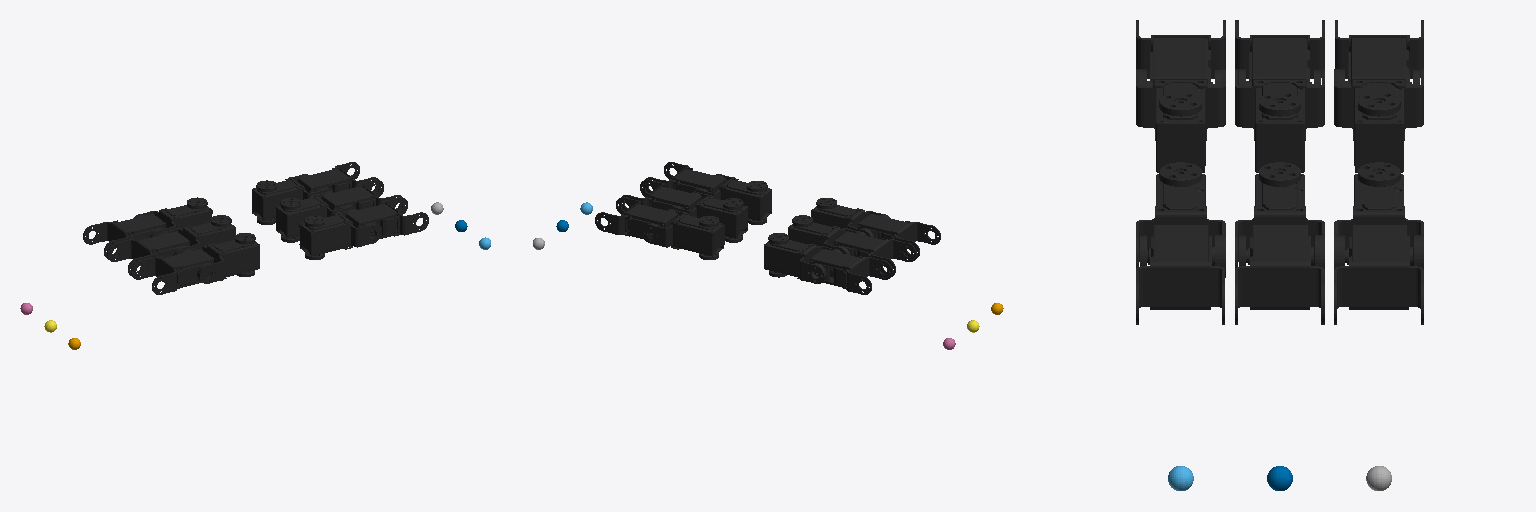
--- Render facts (derived) ---
3 views of the same robot in one strip: view 1: azimuth 30°, elevation 25°; view 2: azimuth 150°, elevation 25°; view 3: azimuth 270°, elevation 25° (orthographic).
Model Hexapod with 33 links and 32 joints (18 revolute, 14 fixed), rooted at world, posed every joint at zero.
Links seen in each view (by area): view 1: c1_rr, thigh_lr, c1_lr, thigh_rr, c1_rm, c1_rf, thigh_lf, thigh_lm, thigh_rm, c1_lm, thigh_rf, c1_lf; view 2: c1_rf, thigh_lf, c1_lf, thigh_rf, c1_rr, thigh_lm, thigh_lr, c1_rm, thigh_rm, thigh_rr, c1_lm, c1_lr; view 3: thigh_rm, thigh_rf, thigh_rr, c1_lr, c1_lf, c1_lm, thigh_lm, thigh_lr, thigh_lf, c1_rr, c1_rf, c1_rm.
Boxes of the visible links, x1,y1,x2,y2 form: c1_rr: (299, 209, 381, 259); thigh_lr: (131, 249, 214, 294); c1_lr: (181, 233, 259, 283); thigh_rr: (345, 197, 428, 240); c1_rm: (276, 191, 354, 242); c1_rf: (252, 174, 331, 224); thigh_lf: (83, 214, 165, 259); thigh_lm: (107, 231, 189, 275); thigh_rm: (321, 179, 402, 210); c1_lm: (157, 215, 235, 254); thigh_rf: (297, 162, 378, 192); c1_lf: (133, 197, 212, 236); c1_rf: (642, 209, 724, 259); thigh_lf: (809, 249, 892, 294); c1_lf: (764, 233, 841, 283); thigh_rf: (595, 197, 678, 241); c1_rr: (692, 174, 771, 224); thigh_lm: (834, 231, 916, 276); thigh_lr: (858, 214, 940, 259); c1_rm: (669, 191, 747, 242); thigh_rm: (622, 179, 702, 210); thigh_rr: (645, 162, 726, 192); c1_lm: (788, 215, 866, 254); c1_lr: (811, 198, 889, 236); thigh_rm: (1235, 225, 1324, 324); thigh_rf: (1334, 225, 1423, 324); thigh_rr: (1136, 225, 1224, 324); c1_lr: (1136, 69, 1225, 172); c1_lf: (1334, 69, 1423, 172); c1_lm: (1235, 69, 1324, 172); thigh_lm: (1235, 20, 1324, 86); thigh_lr: (1136, 20, 1225, 86); thigh_lf: (1335, 20, 1423, 86); c1_rr: (1136, 162, 1225, 277); c1_rf: (1334, 162, 1423, 268); c1_rm: (1235, 162, 1324, 268).
Bounding box of the posed robot: 0.467 × 0.1339 × 0.0753 m (x, y, z).
12 mesh visuals loaded from 4 distinct referenced files (2 binary STL); not drawn: 7 (reference not matched to a file when rendering).

robot.urdf — Hexapod:
<?xml version="1.0" ?>
<!-- =================================================================================== -->
<!-- |    This document was autogenerated by xacro from hexapod.xacro                  | -->
<!-- |    EDITING THIS FILE BY HAND IS NOT RECOMMENDED                                 | -->
<!-- =================================================================================== -->
<robot name="Hexapod">
  <!-- <xacro:arg name="arm_id_1" default="panda_1" /> -->
  <link name="world"/>
  <joint name="world_connect" type="fixed">
    <parent link="world"/>
    <child link="base_link"/>
    <origin rpy="0 0 0" xyz="0 0 0.1"/>
  </joint>
  <link name="base_link"/>
  <!-- <xacro:include filename="$(find franka_description)/robots/panda_gazebo.xacro"/> -->
  <!-- <xacro:include filename="$(find franka_description)/robots/hand.xacro"/> -->
  <!-- <xacro:include filename="$(find realsense_ros_gazebo)/xacro/inertia_calc.xacro"/> -->
  <!-- <xacro:include filename="$(find realsense_ros_gazebo)/xacro/tracker.xacro"/> -->
  <!-- <xacro:include filename="$(find hexapod)/robot/depthcam.xacro"/> -->
  <joint name="j_hexapod_attachment" type="fixed">
    <parent link="base_link"/>
    <child link="MP_BODY"/>
    <origin rpy="0 0 0.0" xyz="0 0 0"/>
    <insert_block name="origin"/>
  </joint>
  <link name="MP_BODY">
    <inertial>
      <origin rpy="0 0 0" xyz="0 0 0.02"/>
      <mass value="0.8"/>
      <!-- <mass value="10.0"/> -->
      <inertia ixx="0.0010867" ixy="0" ixz="0" iyy="0.0010867" iyz="0" izz="0.00196"/>
      <!-- <inertia ixx="31.081800"  ixy="2.5460189"  ixz="20.318174" iyy="63.787776" iyz="1.6417863" izz="53.316425" /> -->
    </inertial>
    <visual>
      <origin rpy="-1.57 0 0" xyz="-0.071 -0.075 0.041"/>
      <geometry>
        <!--box size="0.102 0.109 0.106" /-->
        <mesh filename="package://hexapod/meshes/test4.STL" scale="0.001 0.001 0.001"/>
      </geometry>
      <material name="Grey">
        <color rgba="0.20 0.20 0.20 1.0"/>
      </material>
    </visual>
    <collision>
      <origin rpy="0 0 0" xyz="0 0 0.02"/>
      <geometry>
        <!-- <box size="0.14 0.15 0.1"/> -->
        <cylinder length="0.04" radius="0.07"/>
      </geometry>
    </collision>
  </link>
  <gazebo reference="MP_BODY">
    <material>Gazebo/Grey</material>
  </gazebo>
  <link name="c1_rf">
    <inertial>
      <origin rpy="0 0 0" xyz="0 0 0"/>
      <mass value="0.024357719"/>
      <inertia ixx="0.0051411124" ixy="-0.00057530255" ixz="-0.000024729049" iyy="0.0081915737" iyz="-0.000019223094" izz="0.0011379812"/>
    </inertial>
    <visual>
      <origin rpy="0 0 0" xyz="0 0.012 0"/>
      <geometry>
        <!--box size="0.045 0.022 0.0325" /-->
        <mesh filename="package://hexapod/meshes/right1_Link.STL" scale="1 1 1"/>
      </geometry>
      <material name="Grey">
        <color rgba="0.20 0.20 0.20 1.0"/>
      </material>
    </visual>
    <collision>
      <!-- <origin xyz="0 0.012 0" rpy="0 0 0"  />
      <geometry>
        <mesh filename="package://hexapod/meshes/right1_Link.STL"  scale="1 1 1"/>
      </geometry> -->
      <origin rpy="1.57 0 0" xyz="0 0.0 0"/>
      <geometry>
        <cylinder length="0.03" radius="0.01"/>
      </geometry>
    </collision>
  </link>
  <link name="connect_rf">
    <origin rpy="0 0 0" xyz="0 0 0"/>
    <inertial>
      <origin xyz="0 0 0"/>
      <mass value="0.97559947"/>
      <inertia ixx="3.1081800" ixy="-0.25460189" ixz="2.0318174" iyy="6.3787776" iyz="0.16417863" izz="5.3316425"/>
    </inertial>
  </link>
  <joint name="j_connect_rf" type="fixed">
    <parent link="MP_BODY"/>
    <child link="connect_rf"/>
    <origin rpy="0 3.141592653589793 -1.5707963267948966" xyz="0.038 0.046 0.02"/>
  </joint>
  <link name="thigh_rf">
    <inertial>
      <origin rpy="0 1.57 0" xyz="0 0.0 0"/>
      <mass value="0.024357719"/>
      <inertia ixx="0.0051411124" ixy="-0.00057530255" ixz="-0.000024729049" iyy="0.0081915737" iyz="-0.000019223094" izz="0.0011379812"/>
    </inertial>
    <visual>
      <origin rpy="0 0 0" xyz="0 0 -0.004"/>
      <geometry>
        <!--box size="0.045 0.022 0.0325" /-->
        <mesh filename="package://hexapod/meshes/LinkThigh.STL" scale="1 1 1"/>
      </geometry>
      <material name="Grey">
        <color rgba="0.20 0.20 0.20 1.0"/>
      </material>
    </visual>
    <collision>
      <origin rpy="0 1.57 0" xyz="0 0.0 0"/>
      <geometry>
        <cylinder length="0.05" radius="0.01"/>
      </geometry>
    </collision>
  </link>
  <link name="tibia_rf">
    <inertial>
      <origin rpy="0 1.57 0.524" xyz="-0.027 -0.017 0"/>
      <mass value="0.002"/>
      <inertia ixx="0.0000024045" ixy="0" ixz="0" iyy="0.0000024045" iyz="0" izz="0.000000009"/>
    </inertial>
    <visual>
      <origin rpy="0 0 0" xyz="0 0 0"/>
      <geometry>
        <!--box size="0.045 0.022 0.0325" /-->
        <!-- <mesh filename="package://robot_envs/hexapod/robot/meshes/LinkTibia.STL"  scale="1 1 1"/> -->
        <mesh filename="package://hexapod/meshes/NewTibia.STL" scale="0.001 0.001 0.001"/>
      </geometry>
      <material name="Grey">
        <color rgba="0.20 0.20 0.20 1.0"/>
      </material>
    </visual>
    <collision>
      <origin rpy="0 1.57 0.524" xyz="-0.027 -0.017 0"/>
      <geometry>
        <cylinder length="0.12" radius="0.003"/>
      </geometry>
    </collision>
  </link>
  <!-- <link name="tibia_e_${suffix}">

      <visual><geometry><sphere radius="0.003"/></geometry></visual>
      <collision><geometry><sphere radius="0.005"/></geometry></collision>
      <inertial>
          <origin xyz="0 0 0" rpy="0 0 0"/>
          <mass value="0.001"/>
          <inertia ixx="0.1" ixy="0.0" ixz="0.0" iyy="0.1"  iyz="0.0" izz="0.1"/>
      </inertial>
  </link> -->
  <link name="tibia_e_rf">
    <visual>
      <origin rpy="0 0 0" xyz="0 0 0"/>
      <geometry>
        <sphere radius=".006"/>
      </geometry>
    </visual>
    <collision>
      <geometry>
        <sphere radius=".006"/>
      </geometry>
    </collision>
    <inertial>
      <origin rpy="0 0 0" xyz="0 0 0"/>
      <mass value="0.01"/>
      <inertia ixx="0.00144" ixy="0.0" ixz="0.0" iyy="0.00144" iyz="0.0" izz="0.00144"/>
    </inertial>
  </link>
  <!-- here are an edit including a ball joint -->
  <joint name="j_c1_rf" type="revolute">
    <parent link="connect_rf"/>
    <child link="c1_rf"/>
    <origin rpy="0 3.141592653589793 0" xyz="0 0 0"/>
    <axis xyz="0 0 -1"/>
    <limit effort="5.8" lower="-2.6179939" upper="2.6179939" velocity="10"/>
    <dynamics damping="0.5" friction="0.0"/>
  </joint>
  <joint name="j_thigh_rf" type="revolute">
    <parent link="c1_rf"/>
    <child link="thigh_rf"/>
    <origin rpy="1.5707963267948966 0 1.5707963267948966" xyz="0 0.053 0"/>
    <axis xyz="0 0 1"/>
    <limit effort="5.8" lower="-2.6179939" upper="2.6179939" velocity="10"/>
    <dynamics damping="0.5" friction="0.0"/>
  </joint>
  <joint name="j_tibia_rf" type="revolute">
    <parent link="thigh_rf"/>
    <child link="tibia_rf"/>
    <!-- <origin xyz="0 ${thigh_offset_y} ${thigh_offset_z}" rpy="-1.5707 0 3.14159" /> -->
    <origin rpy="3.141592653589793 0 3.141592653589793" xyz="0.0525 0 0"/>
    <axis xyz="0 0 -1"/>
    <limit effort="5.8" lower="-2.5" upper="2.5" velocity="10"/>
    <dynamics damping="0.5" friction="0.0"/>
  </joint>
  <joint name="j_tibia_e_rf" type="fixed">
    <parent link="tibia_rf"/>
    <child link="tibia_e_rf"/>
    <!-- <origin xyz="0 ${thigh_offset_y} ${thigh_offset_z}" rpy="-1.5707 0 3.14159" /> -->
    <origin rpy="0 0 0" xyz="-0.084 -0.05 0"/>
  </joint>
  <transmission name="t_c1_rf">
    <type>transmission_interface/SimpleTransmission</type>
    <joint name="j_c1_rf">
      <hardwareInterface>hardware_interface/EffortJointInterface</hardwareInterface>
    </joint>
    <actuator name="m_c1_rf">
      <hardwareInterface>hardware_interface/EffortJointInterface</hardwareInterface>
      <mechanicalReduction>1</mechanicalReduction>
    </actuator>
  </transmission>
  <transmission name="t_thigh_rf">
    <type>transmission_interface/SimpleTransmission</type>
    <joint name="j_thigh_rf">
      <hardwareInterface>hardware_interface/EffortJointInterface</hardwareInterface>
    </joint>
    <actuator name="m_thigh_rf">
      <hardwareInterface>hardware_interface/EffortJointInterface</hardwareInterface>
      <mechanicalReduction>1</mechanicalReduction>
    </actuator>
  </transmission>
  <transmission name="t_tibia_rf">
    <type>transmission_interface/SimpleTransmission</type>
    <joint name="j_tibia_rf">
      <hardwareInterface>hardware_interface/EffortJointInterface</hardwareInterface>
    </joint>
    <actuator name="m_tibia_rf">
      <hardwareInterface>hardware_interface/EffortJointInterface</hardwareInterface>
      <mechanicalReduction>1</mechanicalReduction>
    </actuator>
  </transmission>
  <gazebo reference="MP_BODY">
    <mu1>0.61</mu1>
    <mu2>0.61</mu2>
  </gazebo>
  <gazebo reference="c1_rf">
    <material>Gazebo/Grey</material>
    <mu1>0.61</mu1>
    <mu2>0.61</mu2>
  </gazebo>
  <gazebo reference="connect_rf">
    <mu1>0.61</mu1>
    <mu2>0.61</mu2>
  </gazebo>
  <gazebo reference="thigh_rf">
    <material>Gazebo/Grey</material>
    <mu1>0.61</mu1>
    <mu2>0.61</mu2>
  </gazebo>
  <gazebo reference="tibia_rf">
    <material>Gazebo/Grey</material>
    <mu1>0.61</mu1>
    <mu2>0.61</mu2>
  </gazebo>
  <gazebo reference="tibia_e_rf">
    <material>Gazebo/Grey</material>
    <mu1>10</mu1>
    <mu2>10</mu2>
    <kp>1000000.0</kp>
    <kd>10.0</kd>
  </gazebo>
  <!-- <gazebo reference="theta_link_${suffix}">    
    <material>Gazebo/Grey</material>
   <mu1>0.61</mu1>
    <mu2>0.61</mu2>

  </gazebo> -->
  <!-- <gazebo reference="foot_link_${suffix}">    
    <material>Gazebo/Grey</material>
    <mu1>100</mu1>
    <mu2>100</mu2>

    <kp>1000000.0</kp>
    <kd>10.0</kd>

  </gazebo> -->
  <!-- <gazebo reference="footc_${suffix}">    
    <material>Gazebo/White</material>
  </gazebo> -->
  <link name="c1_rm">
    <inertial>
      <origin rpy="0 0 0" xyz="0 0 0"/>
      <mass value="0.024357719"/>
      <inertia ixx="0.0051411124" ixy="-0.00057530255" ixz="-0.000024729049" iyy="0.0081915737" iyz="-0.000019223094" izz="0.0011379812"/>
    </inertial>
    <visual>
      <origin rpy="0 0 0" xyz="0 0.012 0"/>
      <geometry>
        <!--box size="0.045 0.022 0.0325" /-->
        <mesh filename="package://hexapod/meshes/right1_Link.STL" scale="1 1 1"/>
      </geometry>
      <material name="Grey">
        <color rgba="0.20 0.20 0.20 1.0"/>
      </material>
    </visual>
    <collision>
      <!-- <origin xyz="0 0.012 0" rpy="0 0 0"  />
      <geometry>
        <mesh filename="package://hexapod/meshes/right1_Link.STL"  scale="1 1 1"/>
      </geometry> -->
      <origin rpy="1.57 0 0" xyz="0 0.0 0"/>
      <geometry>
        <cylinder length="0.03" radius="0.01"/>
      </geometry>
    </collision>
  </link>
  <link name="connect_rm">
    <origin rpy="0 0 0" xyz="0 0 0"/>
    <inertial>
      <origin xyz="0 0 0"/>
      <mass value="0.97559947"/>
      <inertia ixx="3.1081800" ixy="-0.25460189" ixz="2.0318174" iyy="6.3787776" iyz="0.16417863" izz="5.3316425"/>
    </inertial>
  </link>
  <joint name="j_connect_rm" type="fixed">
    <parent link="MP_BODY"/>
    <child link="connect_rm"/>
    <origin rpy="0 3.141592653589793 -1.5707963267948966" xyz="0.038 0.0  0.02"/>
  </joint>
  <link name="thigh_rm">
    <inertial>
      <origin rpy="0 1.57 0" xyz="0 0.0 0"/>
      <mass value="0.024357719"/>
      <inertia ixx="0.0051411124" ixy="-0.00057530255" ixz="-0.000024729049" iyy="0.0081915737" iyz="-0.000019223094" izz="0.0011379812"/>
    </inertial>
    <visual>
      <origin rpy="0 0 0" xyz="0 0 -0.004"/>
      <geometry>
        <!--box size="0.045 0.022 0.0325" /-->
        <mesh filename="package://hexapod/meshes/LinkThigh.STL" scale="1 1 1"/>
      </geometry>
      <material name="Grey">
        <color rgba="0.20 0.20 0.20 1.0"/>
      </material>
    </visual>
    <collision>
      <origin rpy="0 1.57 0" xyz="0 0.0 0"/>
      <geometry>
        <cylinder length="0.05" radius="0.01"/>
      </geometry>
    </collision>
  </link>
  <link name="tibia_rm">
    <inertial>
      <origin rpy="0 1.57 0.524" xyz="-0.027 -0.017 0"/>
      <mass value="0.002"/>
      <inertia ixx="0.0000024045" ixy="0" ixz="0" iyy="0.0000024045" iyz="0" izz="0.000000009"/>
    </inertial>
    <visual>
      <origin rpy="0 0 0" xyz="0 0 0"/>
      <geometry>
        <!--box size="0.045 0.022 0.0325" /-->
        <!-- <mesh filename="package://robot_envs/hexapod/robot/meshes/LinkTibia.STL"  scale="1 1 1"/> -->
        <mesh filename="package://hexapod/meshes/NewTibia.STL" scale="0.001 0.001 0.001"/>
      </geometry>
      <material name="Grey">
        <color rgba="0.20 0.20 0.20 1.0"/>
      </material>
    </visual>
    <collision>
      <origin rpy="0 1.57 0.524" xyz="-0.027 -0.017 0"/>
      <geometry>
        <cylinder length="0.12" radius="0.003"/>
      </geometry>
    </collision>
  </link>
  <!-- <link name="tibia_e_${suffix}">

      <visual><geometry><sphere radius="0.003"/></geometry></visual>
      <collision><geometry><sphere radius="0.005"/></geometry></collision>
      <inertial>
          <origin xyz="0 0 0" rpy="0 0 0"/>
          <mass value="0.001"/>
          <inertia ixx="0.1" ixy="0.0" ixz="0.0" iyy="0.1"  iyz="0.0" izz="0.1"/>
      </inertial>
  </link> -->
  <link name="tibia_e_rm">
    <visual>
      <origin rpy="0 0 0" xyz="0 0 0"/>
      <geometry>
        <sphere radius=".006"/>
      </geometry>
    </visual>
    <collision>
      <geometry>
        <sphere radius=".006"/>
      </geometry>
    </collision>
    <inertial>
      <origin rpy="0 0 0" xyz="0 0 0"/>
      <mass value="0.01"/>
      <inertia ixx="0.00144" ixy="0.0" ixz="0.0" iyy="0.00144" iyz="0.0" izz="0.00144"/>
    </inertial>
  </link>
  <!-- here are an edit including a ball joint -->
  <joint name="j_c1_rm" type="revolute">
    <parent link="connect_rm"/>
    <child link="c1_rm"/>
    <origin rpy="0 3.141592653589793 0" xyz="0 0 0"/>
    <axis xyz="0 0 -1"/>
    <limit effort="5.8" lower="-2.6179939" upper="2.6179939" velocity="10"/>
    <dynamics damping="0.5" friction="0.0"/>
  </joint>
  <joint name="j_thigh_rm" type="revolute">
    <parent link="c1_rm"/>
    <child link="thigh_rm"/>
    <origin rpy="1.5707963267948966 0 1.5707963267948966" xyz="0 0.053 0"/>
    <axis xyz="0 0 1"/>
    <limit effort="5.8" lower="-2.6179939" upper="2.6179939" velocity="10"/>
    <dynamics damping="0.5" friction="0.0"/>
  </joint>
  <joint name="j_tibia_rm" type="revolute">
    <parent link="thigh_rm"/>
    <child link="tibia_rm"/>
    <!-- <origin xyz="0 ${thigh_offset_y} ${thigh_offset_z}" rpy="-1.5707 0 3.14159" /> -->
    <origin rpy="3.141592653589793 0 3.141592653589793" xyz="0.0525 0 0"/>
    <axis xyz="0 0 -1"/>
    <limit effort="5.8" lower="-2.5" upper="2.5" velocity="10"/>
    <dynamics damping="0.5" friction="0.0"/>
  </joint>
  <joint name="j_tibia_e_rm" type="fixed">
    <parent link="tibia_rm"/>
    <child link="tibia_e_rm"/>
    <!-- <origin xyz="0 ${thigh_offset_y} ${thigh_offset_z}" rpy="-1.5707 0 3.14159" /> -->
    <origin rpy="0 0 0" xyz="-0.084 -0.05 0"/>
  </joint>
  <transmission name="t_c1_rm">
    <type>transmission_interface/SimpleTransmission</type>
    <joint name="j_c1_rm">
      <hardwareInterface>hardware_interface/EffortJointInterface</hardwareInterface>
    </joint>
    <actuator name="m_c1_rm">
      <hardwareInterface>hardware_interface/EffortJointInterface</hardwareInterface>
      <mechanicalReduction>1</mechanicalReduction>
    </actuator>
  </transmission>
  <transmission name="t_thigh_rm">
    <type>transmission_interface/SimpleTransmission</type>
    <joint name="j_thigh_rm">
      <hardwareInterface>hardware_interface/EffortJointInterface</hardwareInterface>
    </joint>
    <actuator name="m_thigh_rm">
      <hardwareInterface>hardware_interface/EffortJointInterface</hardwareInterface>
      <mechanicalReduction>1</mechanicalReduction>
    </actuator>
  </transmission>
  <transmission name="t_tibia_rm">
    <type>transmission_interface/SimpleTransmission</type>
    <joint name="j_tibia_rm">
      <hardwareInterface>hardware_interface/EffortJointInterface</hardwareInterface>
    </joint>
    <actuator name="m_tibia_rm">
      <hardwareInterface>hardware_interface/EffortJointInterface</hardwareInterface>
      <mechanicalReduction>1</mechanicalReduction>
    </actuator>
  </transmission>
  <gazebo reference="MP_BODY">
    <mu1>0.61</mu1>
    <mu2>0.61</mu2>
  </gazebo>
  <gazebo reference="c1_rm">
    <material>Gazebo/Grey</material>
    <mu1>0.61</mu1>
    <mu2>0.61</mu2>
  </gazebo>
  <gazebo reference="connect_rm">
    <mu1>0.61</mu1>
    <mu2>0.61</mu2>
  </gazebo>
  <gazebo reference="thigh_rm">
    <material>Gazebo/Grey</material>
    <mu1>0.61</mu1>
    <mu2>0.61</mu2>
  </gazebo>
  <gazebo reference="tibia_rm">
    <material>Gazebo/Grey</material>
    <mu1>0.61</mu1>
    <mu2>0.61</mu2>
  </gazebo>
  <gazebo reference="tibia_e_rm">
    <material>Gazebo/Grey</material>
    <mu1>10</mu1>
    <mu2>10</mu2>
    <kp>1000000.0</kp>
    <kd>10.0</kd>
  </gazebo>
  <!-- <gazebo reference="theta_link_${suffix}">    
    <material>Gazebo/Grey</material>
   <mu1>0.61</mu1>
    <mu2>0.61</mu2>

  </gazebo> -->
  <!-- <gazebo reference="foot_link_${suffix}">    
    <material>Gazebo/Grey</material>
    <mu1>100</mu1>
    <mu2>100</mu2>

    <kp>1000000.0</kp>
    <kd>10.0</kd>

  </gazebo> -->
  <!-- <gazebo reference="footc_${suffix}">    
    <material>Gazebo/White</material>
  </gazebo> -->
  <link name="c1_rr">
    <inertial>
      <origin rpy="0 0 0" xyz="0 0 0"/>
      <mass value="0.024357719"/>
      <inertia ixx="0.0051411124" ixy="-0.00057530255" ixz="-0.000024729049" iyy="0.0081915737" iyz="-0.000019223094" izz="0.0011379812"/>
    </inertial>
    <visual>
      <origin rpy="0 0 0" xyz="0 0.012 0"/>
      <geometry>
        <!--box size="0.045 0.022 0.0325" /-->
        <mesh filename="package://hexapod/meshes/right1_Link.STL" scale="1 1 1"/>
      </geometry>
      <material name="Grey">
        <color rgba="0.20 0.20 0.20 1.0"/>
      </material>
    </visual>
    <collision>
      <!-- <origin xyz="0 0.012 0" rpy="0 0 0"  />
      <geometry>
        <mesh filename="package://hexapod/meshes/right1_Link.STL"  scale="1 1 1"/>
      </geometry> -->
      <origin rpy="1.57 0 0" xyz="0 0.0 0"/>
      <geometry>
        <cylinder length="0.03" radius="0.01"/>
      </geometry>
    </collision>
  </link>
  <link name="connect_rr">
    <origin rpy="0 0 0" xyz="0 0 0"/>
    <inertial>
      <origin xyz="0 0 0"/>
      <mass value="0.97559947"/>
      <inertia ixx="3.1081800" ixy="-0.25460189" ixz="2.0318174" iyy="6.3787776" iyz="0.16417863" izz="5.3316425"/>
    </inertial>
  </link>
  <joint name="j_connect_rr" type="fixed">
    <parent link="MP_BODY"/>
    <child link="connect_rr"/>
    <origin rpy="0 3.141592653589793 -1.5707963267948966" xyz="0.038 -0.046  0.02"/>
  </joint>
  <link name="thigh_rr">
    <inertial>
      <origin rpy="0 1.57 0" xyz="0 0.0 0"/>
      <mass value="0.024357719"/>
      <inertia ixx="0.0051411124" ixy="-0.00057530255" ixz="-0.000024729049" iyy="0.0081915737" iyz="-0.000019223094" izz="0.0011379812"/>
    </inertial>
    <visual>
      <origin rpy="0 0 0" xyz="0 0 -0.004"/>
      <geometry>
        <!--box size="0.045 0.022 0.0325" /-->
        <mesh filename="package://hexapod/meshes/LinkThigh.STL" scale="1 1 1"/>
      </geometry>
      <material name="Grey">
        <color rgba="0.20 0.20 0.20 1.0"/>
      </material>
    </visual>
    <collision>
      <origin rpy="0 1.57 0" xyz="0 0.0 0"/>
      <geometry>
        <cylinder length="0.05" radius="0.01"/>
      </geometry>
    </collision>
  </link>
  <link name="tibia_rr">
    <inertial>
      <origin rpy="0 1.57 0.524" xyz="-0.027 -0.017 0"/>
      <mass value="0.002"/>
      <inertia ixx="0.0000024045" ixy="0" ixz="0" iyy="0.0000024045" iyz="0" izz="0.000000009"/>
    </inertial>
    <visual>
      <origin rpy="0 0 0" xyz="0 0 0"/>
      <geometry>
        <!--box size="0.045 0.022 0.0325" /-->
        <!-- <mesh filename="package://robot_envs/hexapod/robot/meshes/LinkTibia.STL"  scale="1 1 1"/> -->
        <mesh filename="package://hexapod/meshes/NewTibia.STL" scale="0.001 0.001 0.001"/>
      </geometry>
      <material name="Grey">
        <color rgba="0.20 0.20 0.20 1.0"/>
      </material>
    </visual>
    <collision>
      <origin rpy="0 1.57 0.524" xyz="-0.027 -0.017 0"/>
      <geometry>
        <cylinder length="0.12" radius="0.003"/>
      </geometry>
    </collision>
  </link>
  <!-- <link name="tibia_e_${suffix}">

      <visual><geometry><sphere radius="0.003"/></geometry></visual>
      <collision><geometry><sphere radius="0.005"/></geometry></collision>
      <inertial>
          <origin xyz="0 0 0" rpy="0 0 0"/>
          <mass value="0.001"/>
          <inertia ixx="0.1" ixy="0.0" ixz="0.0" iyy="0.1"  iyz="0.0" izz="0.1"/>
      </inertial>
  </link> -->
  <link name="tibia_e_rr">
    <visual>
      <origin rpy="0 0 0" xyz="0 0 0"/>
      <geometry>
        <sphere radius=".006"/>
      </geometry>
    </visual>
    <collision>
      <geometry>
        <sphere radius=".006"/>
      </geometry>
    </collision>
    <inertial>
      <origin rpy="0 0 0" xyz="0 0 0"/>
      <mass value="0.01"/>
      <inertia ixx="0.00144" ixy="0.0" ixz="0.0" iyy="0.00144" iyz="0.0" izz="0.00144"/>
    </inertial>
  </link>
  <!-- here are an edit including a ball joint -->
  <joint name="j_c1_rr" type="revolute">
    <parent link="connect_rr"/>
    <child link="c1_rr"/>
    <origin rpy="0 3.141592653589793 0" xyz="0 0 0"/>
    <axis xyz="0 0 -1"/>
    <limit effort="5.8" lower="-2.6179939" upper="2.6179939" velocity="10"/>
    <dynamics damping="0.5" friction="0.0"/>
  </joint>
  <joint name="j_thigh_rr" type="revolute">
    <parent link="c1_rr"/>
    <child link="thigh_rr"/>
    <origin rpy="1.5707963267948966 0 1.5707963267948966" xyz="0 0.053 0"/>
    <axis xyz="0 0 1"/>
    <limit effort="5.8" lower="-2.6179939" upper="2.6179939" velocity="10"/>
    <dynamics damping="0.5" friction="0.0"/>
  </joint>
  <joint name="j_tibia_rr" type="revolute">
    <parent link="thigh_rr"/>
    <child link="tibia_rr"/>
    <!-- <origin xyz="0 ${thigh_offset_y} ${thigh_offset_z}" rpy="-1.5707 0 3.14159" /> -->
    <origin rpy="3.141592653589793 0 3.141592653589793" xyz="0.0525 0 0"/>
    <axis xyz="0 0 -1"/>
    <limit effort="5.8" lower="-2.5" upper="2.5" velocity="10"/>
    <dynamics damping="0.5" friction="0.0"/>
  </joint>
  <joint name="j_tibia_e_rr" type="fixed">
    <parent link="tibia_rr"/>
    <child link="tibia_e_rr"/>
    <!-- <origin xyz="0 ${thigh_offset_y} ${thigh_offset_z}" rpy="-1.5707 0 3.14159" /> -->
    <origin rpy="0 0 0" xyz="-0.084 -0.05 0"/>
  </joint>
  <transmission name="t_c1_rr">
    <type>transmission_interface/SimpleTransmission</type>
    <joint name="j_c1_rr">
      <hardwareInterface>hardware_interface/EffortJointInterface</hardwareInterface>
    </joint>
    <actuator name="m_c1_rr">
      <hardwareInterface>hardware_interface/EffortJointInterface</hardwareInterface>
      <mechanicalReduction>1</mechanicalReduction>
    </actuator>
  </transmission>
  <transmission name="t_thigh_rr">
    <type>transmission_interface/SimpleTransmission</type>
    <joint name="j_thigh_rr">
      <hardwareInterface>hardware_interface/EffortJointInterface</hardwareInterface>
    </joint>
    <actuator name="m_thigh_rr">
      <hardwareInterface>hardware_interface/EffortJointInterface</hardwareInterface>
      <mechanicalReduction>1</mechanicalReduction>
    </actuator>
  </transmission>
  <transmission name="t_tibia_rr">
    <type>transmission_interface/SimpleTransmission</type>
    <joint name="j_tibia_rr">
      <hardwareInterface>hardware_interface/EffortJointInterface</hardwareInterface>
    </joint>
    <actuator name="m_tibia_rr">
      <hardwareInterface>hardware_interface/EffortJointInterface</hardwareInterface>
      <mechanicalReduction>1</mechanicalReduction>
    </actuator>
  </transmission>
  <gazebo reference="MP_BODY">
    <mu1>0.61</mu1>
    <mu2>0.61</mu2>
  </gazebo>
  <gazebo reference="c1_rr">
    <material>Gazebo/Grey</material>
    <mu1>0.61</mu1>
    <mu2>0.61</mu2>
  </gazebo>
  <gazebo reference="connect_rr">
    <mu1>0.61</mu1>
    <mu2>0.61</mu2>
  </gazebo>
  <gazebo reference="thigh_rr">
    <material>Gazebo/Grey</material>
    <mu1>0.61</mu1>
    <mu2>0.61</mu2>
  </gazebo>
  <gazebo reference="tibia_rr">
    <material>Gazebo/Grey</material>
    <mu1>0.61</mu1>
    <mu2>0.61</mu2>
  </gazebo>
  <gazebo reference="tibia_e_rr">
    <material>Gazebo/Grey</material>
    <mu1>10</mu1>
    <mu2>10</mu2>
    <kp>1000000.0</kp>
    <kd>10.0</kd>
  </gazebo>
  <!-- <gazebo reference="theta_link_${suffix}">    
    <material>Gazebo/Grey</material>
   <mu1>0.61</mu1>
    <mu2>0.61</mu2>

  </gazebo> -->
  <!-- <gazebo reference="foot_link_${suffix}">    
    <material>Gazebo/Grey</material>
    <mu1>100</mu1>
    <mu2>100</mu2>

    <kp>1000000.0</kp>
    <kd>10.0</kd>

  </gazebo> -->
  <!-- <gazebo reference="footc_${suffix}">    
    <material>Gazebo/White</material>
  </gazebo> -->
  <link name="c1_lf">
    <inertial>
      <origin rpy="0 0 0" xyz="0 0 0"/>
      <mass value="0.024357719"/>
      <inertia ixx="0.0051411124" ixy="-0.00057530255" ixz="-0.000024729049" iyy="0.0081915737" iyz="-0.000019223094" izz="0.0011379812"/>
    </inertial>
    <visual>
      <origin rpy="0 0 0" xyz="0 0.012 0"/>
      <geometry>
        <!--box size="0.045 0.022 0.0325" /-->
        <mesh filename="package://hexapod/meshes/right1_Link.STL" scale="1 1 1"/>
      </geometry>
      <material name="Grey">
        <color rgba="0.20 0.20 0.20 1.0"/>
      </material>
    </visual>
    <collision>
      <!-- <origin xyz="0 0.012 0" rpy="0 0 0"  />
      <geometry>
        <mesh filename="package://hexapod/meshes/right1_Link.STL"  scale="1 1 1"/>
      </geometry> -->
      <origin rpy="1.57 0 0" xyz="0 0.0 0"/>
      <geometry>
        <cylinder length="0.03" radius="0.01"/>
      </geometry>
    </collision>
  </link>
  <link name="connect_lf">
    <origin rpy="0 0 0" xyz="0 0 0"/>
    <inertial>
      <origin xyz="0 0 0"/>
      <mass value="0.97559947"/>
      <inertia ixx="3.1081800" ixy="-0.25460189" ixz="2.0318174" iyy="6.3787776" iyz="0.16417863" izz="5.3316425"/>
    </inertial>
  </link>
  <joint name="j_connect_lf" type="fixed">
    <parent link="MP_BODY"/>
    <child link="connect_lf"/>
    <origin rpy="0 -3.141592653589793 4.71238898038469" xyz="-0.038 0.046  0.02"/>
  </joint>
  <link name="thigh_lf">
    <inertial>
      <origin rpy="0 1.57 0" xyz="0 0.0 0"/>
      <mass value="0.024357719"/>
      <inertia ixx="0.0051411124" ixy="-0.00057530255" ixz="-0.000024729049" iyy="0.0081915737" iyz="-0.000019223094" izz="0.0011379812"/>
    </inertial>
    <visual>
      <origin rpy="0 0 0" xyz="0 0 -0.004"/>
      <geometry>
        <!--box size="0.045 0.022 0.0325" /-->
        <mesh filename="package://hexapod/meshes/LinkThigh.STL" scale="1 1 1"/>
      </geometry>
      <material name="Grey">
        <color rgba="0.20 0.20 0.20 1.0"/>
      </material>
    </visual>
    <collision>
      <origin rpy="0 1.57 0" xyz="0 0.0 0"/>
      <geometry>
        <cylinder length="0.05" radius="0.01"/>
      </geometry>
    </collision>
  </link>
  <link name="tibia_lf">
    <inertial>
      <origin rpy="0 1.57 0.524" xyz="-0.027 -0.017 0"/>
      <mass value="0.002"/>
      <inertia ixx="0.0000024045" ixy="0" ixz="0" iyy="0.0000024045" iyz="0" izz="0.000000009"/>
    </inertial>
    <visual>
      <origin rpy="0 0 0" xyz="0 0 0"/>
      <geometry>
        <!--box size="0.045 0.022 0.0325" /-->
        <!-- <mesh filename="package://robot_envs/hexapod/robot/meshes/LinkTibia.STL"  scale="1 1 1"/> -->
        <mesh filename="package://hexapod/meshes/NewTibia.STL" scale="0.001 0.001 0.001"/>
      </geometry>
      <material name="Grey">
        <color rgba="0.20 0.20 0.20 1.0"/>
      </material>
    </visual>
    <collision>
      <origin rpy="0 1.57 0.524" xyz="-0.027 -0.017 0"/>
      <geometry>
        <cylinder length="0.12" radius="0.003"/>
      </geometry>
    </collision>
  </link>
  <!-- <link name="tibia_e_${suffix}">

      <visual><geometry><sphere radius="0.003"/></geometry></visual>
      <collision><geometry><sphere radius="0.005"/></geometry></collision>
      <inertial>
          <origin xyz="0 0 0" rpy="0 0 0"/>
          <mass value="0.001"/>
          <inertia ixx="0.1" ixy="0.0" ixz="0.0" iyy="0.1"  iyz="0.0" izz="0.1"/>
      </inertial>
  </link> -->
  <link name="tibia_e_lf">
    <visual>
      <origin rpy="0 0 0" xyz="0 0 0"/>
      <geometry>
        <sphere radius=".006"/>
      </geometry>
    </visual>
    <collision>
      <geometry>
        <sphere radius=".006"/>
      </geometry>
    </collision>
    <inertial>
      <origin rpy="0 0 0" xyz="0 0 0"/>
      <mass value="0.01"/>
      <inertia ixx="0.00144" ixy="0.0" ixz="0.0" iyy="0.00144" iyz="0.0" izz="0.00144"/>
    </inertial>
  </link>
  <!-- here are an edit including a ball joint -->
  <joint name="j_c1_lf" type="revolute">
    <parent link="connect_lf"/>
    <child link="c1_lf"/>
    <origin rpy="0 3.141592653589793 3.141592653589793" xyz="0 0 0"/>
    <axis xyz="0 0 -1"/>
    <limit effort="5.8" lower="-2.6179939" upper="2.6179939" velocity="10"/>
    <dynamics damping="0.5" friction="0.0"/>
  </joint>
  <joint name="j_thigh_lf" type="revolute">
    <parent link="c1_lf"/>
    <child link="thigh_lf"/>
    <origin rpy="1.5707963267948966 0 1.5707963267948966" xyz="0 0.053 0"/>
    <axis xyz="0 0 1"/>
    <limit effort="5.8" lower="-2.6179939" upper="2.6179939" velocity="10"/>
    <dynamics damping="0.5" friction="0.0"/>
  </joint>
  <joint name="j_tibia_lf" type="revolute">
    <parent link="thigh_lf"/>
    <child link="tibia_lf"/>
    <!-- <origin xyz="0 ${thigh_offset_y} ${thigh_offset_z}" rpy="-1.5707 0 3.14159" /> -->
    <origin rpy="3.141592653589793 0 3.141592653589793" xyz="0.0525 0 0"/>
    <axis xyz="0 0 -1"/>
    <limit effort="5.8" lower="-2.5" upper="2.5" velocity="10"/>
    <dynamics damping="0.5" friction="0.0"/>
  </joint>
  <joint name="j_tibia_e_lf" type="fixed">
    <parent link="tibia_lf"/>
    <child link="tibia_e_lf"/>
    <!-- <origin xyz="0 ${thigh_offset_y} ${thigh_offset_z}" rpy="-1.5707 0 3.14159" /> -->
    <origin rpy="0 0 0" xyz="-0.084 -0.05 0"/>
  </joint>
  <transmission name="t_c1_lf">
    <type>transmission_interface/SimpleTransmission</type>
    <joint name="j_c1_lf">
      <hardwareInterface>hardware_interface/EffortJointInterface</hardwareInterface>
    </joint>
    <actuator name="m_c1_lf">
      <hardwareInterface>hardware_interface/EffortJointInterface</hardwareInterface>
      <mechanicalReduction>1</mechanicalReduction>
    </actuator>
  </transmission>
  <transmission name="t_thigh_lf">
    <type>transmission_interface/SimpleTransmission</type>
    <joint name="j_thigh_lf">
      <hardwareInterface>hardware_interface/EffortJointInterface</hardwareInterface>
    </joint>
    <actuator name="m_thigh_lf">
      <hardwareInterface>hardware_interface/EffortJointInterface</hardwareInterface>
      <mechanicalReduction>1</mechanicalReduction>
    </actuator>
  </transmission>
  <transmission name="t_tibia_lf">
    <type>transmission_interface/SimpleTransmission</type>
    <joint name="j_tibia_lf">
      <hardwareInterface>hardware_interface/EffortJointInterface</hardwareInterface>
    </joint>
    <actuator name="m_tibia_lf">
      <hardwareInterface>hardware_interface/EffortJointInterface</hardwareInterface>
      <mechanicalReduction>1</mechanicalReduction>
    </actuator>
  </transmission>
  <gazebo reference="MP_BODY">
    <mu1>0.61</mu1>
    <mu2>0.61</mu2>
  </gazebo>
  <gazebo reference="c1_lf">
    <material>Gazebo/Grey</material>
    <mu1>0.61</mu1>
    <mu2>0.61</mu2>
  </gazebo>
  <gazebo reference="connect_lf">
    <mu1>0.61</mu1>
    <mu2>0.61</mu2>
  </gazebo>
  <gazebo reference="thigh_lf">
    <material>Gazebo/Grey</material>
    <mu1>0.61</mu1>
    <mu2>0.61</mu2>
  </gazebo>
  <gazebo reference="tibia_lf">
    <material>Gazebo/Grey</material>
    <mu1>0.61</mu1>
    <mu2>0.61</mu2>
  </gazebo>
  <gazebo reference="tibia_e_lf">
    <material>Gazebo/Grey</material>
    <mu1>10</mu1>
    <mu2>10</mu2>
    <kp>1000000.0</kp>
    <kd>10.0</kd>
  </gazebo>
  <!-- <gazebo reference="theta_link_${suffix}">    
    <material>Gazebo/Grey</material>
   <mu1>0.61</mu1>
    <mu2>0.61</mu2>

  </gazebo> -->
  <!-- <gazebo reference="foot_link_${suffix}">    
    <material>Gazebo/Grey</material>
    <mu1>100</mu1>
    <mu2>100</mu2>

    <kp>1000000.0</kp>
    <kd>10.0</kd>

  </gazebo> -->
  <!-- <gazebo reference="footc_${suffix}">    
    <material>Gazebo/White</material>
  </gazebo> -->
  <link name="c1_lm">
    <inertial>
      <origin rpy="0 0 0" xyz="0 0 0"/>
      <mass value="0.024357719"/>
      <inertia ixx="0.0051411124" ixy="-0.00057530255" ixz="-0.000024729049" iyy="0.0081915737" iyz="-0.000019223094" izz="0.0011379812"/>
    </inertial>
    <visual>
      <origin rpy="0 0 0" xyz="0 0.012 0"/>
      <geometry>
        <!--box size="0.045 0.022 0.0325" /-->
        <mesh filename="package://hexapod/meshes/right1_Link.STL" scale="1 1 1"/>
      </geometry>
      <material name="Grey">
        <color rgba="0.20 0.20 0.20 1.0"/>
      </material>
    </visual>
    <collision>
      <!-- <origin xyz="0 0.012 0" rpy="0 0 0"  />
      <geometry>
        <mesh filename="package://hexapod/meshes/right1_Link.STL"  scale="1 1 1"/>
      </geometry> -->
      <origin rpy="1.57 0 0" xyz="0 0.0 0"/>
      <geometry>
        <cylinder length="0.03" radius="0.01"/>
      </geometry>
    </collision>
  </link>
  <link name="connect_lm">
    <origin rpy="0 0 0" xyz="0 0 0"/>
    <inertial>
      <origin xyz="0 0 0"/>
      <mass value="0.97559947"/>
      <inertia ixx="3.1081800" ixy="-0.25460189" ixz="2.0318174" iyy="6.3787776" iyz="0.16417863" izz="5.3316425"/>
    </inertial>
  </link>
  <joint name="j_connect_lm" type="fixed">
    <parent link="MP_BODY"/>
    <child link="connect_lm"/>
    <origin rpy="0 -3.141592653589793 4.71238898038469" xyz="-0.038 0.0  0.02"/>
  </joint>
  <link name="thigh_lm">
    <inertial>
      <origin rpy="0 1.57 0" xyz="0 0.0 0"/>
      <mass value="0.024357719"/>
      <inertia ixx="0.0051411124" ixy="-0.00057530255" ixz="-0.000024729049" iyy="0.0081915737" iyz="-0.000019223094" izz="0.0011379812"/>
    </inertial>
    <visual>
      <origin rpy="0 0 0" xyz="0 0 -0.004"/>
      <geometry>
        <!--box size="0.045 0.022 0.0325" /-->
        <mesh filename="package://hexapod/meshes/LinkThigh.STL" scale="1 1 1"/>
      </geometry>
      <material name="Grey">
        <color rgba="0.20 0.20 0.20 1.0"/>
      </material>
    </visual>
    <collision>
      <origin rpy="0 1.57 0" xyz="0 0.0 0"/>
      <geometry>
        <cylinder length="0.05" radius="0.01"/>
      </geometry>
    </collision>
  </link>
  <link name="tibia_lm">
    <inertial>
      <origin rpy="0 1.57 0.524" xyz="-0.027 -0.017 0"/>
      <mass value="0.002"/>
      <inertia ixx="0.0000024045" ixy="0" ixz="0" iyy="0.0000024045" iyz="0" izz="0.000000009"/>
    </inertial>
    <visual>
      <origin rpy="0 0 0" xyz="0 0 0"/>
      <geometry>
        <!--box size="0.045 0.022 0.0325" /-->
        <!-- <mesh filename="package://robot_envs/hexapod/robot/meshes/LinkTibia.STL"  scale="1 1 1"/> -->
        <mesh filename="package://hexapod/meshes/NewTibia.STL" scale="0.001 0.001 0.001"/>
      </geometry>
      <material name="Grey">
        <color rgba="0.20 0.20 0.20 1.0"/>
      </material>
    </visual>
    <collision>
      <origin rpy="0 1.57 0.524" xyz="-0.027 -0.017 0"/>
      <geometry>
        <cylinder length="0.12" radius="0.003"/>
      </geometry>
    </collision>
  </link>
  <!-- <link name="tibia_e_${suffix}">

      <visual><geometry><sphere radius="0.003"/></geometry></visual>
      <collision><geometry><sphere radius="0.005"/></geometry></collision>
      <inertial>
          <origin xyz="0 0 0" rpy="0 0 0"/>
          <mass value="0.001"/>
          <inertia ixx="0.1" ixy="0.0" ixz="0.0" iyy="0.1"  iyz="0.0" izz="0.1"/>
      </inertial>
  </link> -->
  <link name="tibia_e_lm">
    <visual>
      <origin rpy="0 0 0" xyz="0 0 0"/>
      <geometry>
        <sphere radius=".006"/>
      </geometry>
    </visual>
    <collision>
      <geometry>
        <sphere radius=".006"/>
      </geometry>
    </collision>
    <inertial>
      <origin rpy="0 0 0" xyz="0 0 0"/>
      <mass value="0.01"/>
      <inertia ixx="0.00144" ixy="0.0" ixz="0.0" iyy="0.00144" iyz="0.0" izz="0.00144"/>
    </inertial>
  </link>
  <!-- here are an edit including a ball joint -->
  <joint name="j_c1_lm" type="revolute">
    <parent link="connect_lm"/>
    <child link="c1_lm"/>
    <origin rpy="0 3.141592653589793 3.141592653589793" xyz="0 0 0"/>
    <axis xyz="0 0 -1"/>
    <limit effort="5.8" lower="-2.6179939" upper="2.6179939" velocity="10"/>
    <dynamics damping="0.5" friction="0.0"/>
  </joint>
  <joint name="j_thigh_lm" type="revolute">
    <parent link="c1_lm"/>
    <child link="thigh_lm"/>
    <origin rpy="1.5707963267948966 0 1.5707963267948966" xyz="0 0.053 0"/>
    <axis xyz="0 0 1"/>
    <limit effort="5.8" lower="-2.6179939" upper="2.6179939" velocity="10"/>
    <dynamics damping="0.5" friction="0.0"/>
  </joint>
  <joint name="j_tibia_lm" type="revolute">
    <parent link="thigh_lm"/>
    <child link="tibia_lm"/>
    <!-- <origin xyz="0 ${thigh_offset_y} ${thigh_offset_z}" rpy="-1.5707 0 3.14159" /> -->
    <origin rpy="3.141592653589793 0 3.141592653589793" xyz="0.0525 0 0"/>
    <axis xyz="0 0 -1"/>
    <limit effort="5.8" lower="-2.5" upper="2.5" velocity="10"/>
    <dynamics damping="0.5" friction="0.0"/>
  </joint>
  <joint name="j_tibia_e_lm" type="fixed">
    <parent link="tibia_lm"/>
    <child link="tibia_e_lm"/>
    <!-- <origin xyz="0 ${thigh_offset_y} ${thigh_offset_z}" rpy="-1.5707 0 3.14159" /> -->
    <origin rpy="0 0 0" xyz="-0.084 -0.05 0"/>
  </joint>
  <transmission name="t_c1_lm">
    <type>transmission_interface/SimpleTransmission</type>
    <joint name="j_c1_lm">
      <hardwareInterface>hardware_interface/EffortJointInterface</hardwareInterface>
    </joint>
    <actuator name="m_c1_lm">
      <hardwareInterface>hardware_interface/EffortJointInterface</hardwareInterface>
      <mechanicalReduction>1</mechanicalReduction>
    </actuator>
  </transmission>
  <transmission name="t_thigh_lm">
    <type>transmission_interface/SimpleTransmission</type>
    <joint name="j_thigh_lm">
      <hardwareInterface>hardware_interface/EffortJointInterface</hardwareInterface>
    </joint>
    <actuator name="m_thigh_lm">
      <hardwareInterface>hardware_interface/EffortJointInterface</hardwareInterface>
      <mechanicalReduction>1</mechanicalReduction>
    </actuator>
  </transmission>
  <transmission name="t_tibia_lm">
    <type>transmission_interface/SimpleTransmission</type>
    <joint name="j_tibia_lm">
      <hardwareInterface>hardware_interface/EffortJointInterface</hardwareInterface>
    </joint>
    <actuator name="m_tibia_lm">
      <hardwareInterface>hardware_interface/EffortJointInterface</hardwareInterface>
      <mechanicalReduction>1</mechanicalReduction>
    </actuator>
  </transmission>
  <gazebo reference="MP_BODY">
    <mu1>0.61</mu1>
    <mu2>0.61</mu2>
  </gazebo>
  <gazebo reference="c1_lm">
    <material>Gazebo/Grey</material>
    <mu1>0.61</mu1>
    <mu2>0.61</mu2>
  </gazebo>
  <gazebo reference="connect_lm">
    <mu1>0.61</mu1>
    <mu2>0.61</mu2>
  </gazebo>
  <gazebo reference="thigh_lm">
    <material>Gazebo/Grey</material>
    <mu1>0.61</mu1>
    <mu2>0.61</mu2>
  </gazebo>
  <gazebo reference="tibia_lm">
    <material>Gazebo/Grey</material>
    <mu1>0.61</mu1>
    <mu2>0.61</mu2>
  </gazebo>
  <gazebo reference="tibia_e_lm">
    <material>Gazebo/Grey</material>
    <mu1>10</mu1>
    <mu2>10</mu2>
    <kp>1000000.0</kp>
    <kd>10.0</kd>
  </gazebo>
  <!-- <gazebo reference="theta_link_${suffix}">    
    <material>Gazebo/Grey</material>
   <mu1>0.61</mu1>
    <mu2>0.61</mu2>

  </gazebo> -->
  <!-- <gazebo reference="foot_link_${suffix}">    
    <material>Gazebo/Grey</material>
    <mu1>100</mu1>
    <mu2>100</mu2>

    <kp>1000000.0</kp>
    <kd>10.0</kd>

  </gazebo> -->
  <!-- <gazebo reference="footc_${suffix}">    
    <material>Gazebo/White</material>
  </gazebo> -->
  <link name="c1_lr">
    <inertial>
      <origin rpy="0 0 0" xyz="0 0 0"/>
      <mass value="0.024357719"/>
      <inertia ixx="0.0051411124" ixy="-0.00057530255" ixz="-0.000024729049" iyy="0.0081915737" iyz="-0.000019223094" izz="0.0011379812"/>
    </inertial>
    <visual>
      <origin rpy="0 0 0" xyz="0 0.012 0"/>
      <geometry>
        <!--box size="0.045 0.022 0.0325" /-->
        <mesh filename="package://hexapod/meshes/right1_Link.STL" scale="1 1 1"/>
      </geometry>
      <material name="Grey">
        <color rgba="0.20 0.20 0.20 1.0"/>
      </material>
    </visual>
    <collision>
      <!-- <origin xyz="0 0.012 0" rpy="0 0 0"  />
      <geometry>
        <mesh filename="package://hexapod/meshes/right1_Link.STL"  scale="1 1 1"/>
      </geometry> -->
      <origin rpy="1.57 0 0" xyz="0 0.0 0"/>
      <geometry>
        <cylinder length="0.03" radius="0.01"/>
      </geometry>
    </collision>
  </link>
  <link name="connect_lr">
    <origin rpy="0 0 0" xyz="0 0 0"/>
    <inertial>
      <origin xyz="0 0 0"/>
      <mass value="0.97559947"/>
      <inertia ixx="3.1081800" ixy="-0.25460189" ixz="2.0318174" iyy="6.3787776" iyz="0.16417863" izz="5.3316425"/>
    </inertial>
  </link>
  <joint name="j_connect_lr" type="fixed">
    <parent link="MP_BODY"/>
    <child link="connect_lr"/>
    <origin rpy="0 -3.141592653589793 4.71238898038469" xyz="-0.038 -0.046  0.02"/>
  </joint>
  <link name="thigh_lr">
    <inertial>
      <origin rpy="0 1.57 0" xyz="0 0.0 0"/>
      <mass value="0.024357719"/>
      <inertia ixx="0.0051411124" ixy="-0.00057530255" ixz="-0.000024729049" iyy="0.0081915737" iyz="-0.000019223094" izz="0.0011379812"/>
    </inertial>
    <visual>
      <origin rpy="0 0 0" xyz="0 0 -0.004"/>
      <geometry>
        <!--box size="0.045 0.022 0.0325" /-->
        <mesh filename="package://hexapod/meshes/LinkThigh.STL" scale="1 1 1"/>
      </geometry>
      <material name="Grey">
        <color rgba="0.20 0.20 0.20 1.0"/>
      </material>
    </visual>
    <collision>
      <origin rpy="0 1.57 0" xyz="0 0.0 0"/>
      <geometry>
        <cylinder length="0.05" radius="0.01"/>
      </geometry>
    </collision>
  </link>
  <link name="tibia_lr">
    <inertial>
      <origin rpy="0 1.57 0.524" xyz="-0.027 -0.017 0"/>
      <mass value="0.002"/>
      <inertia ixx="0.0000024045" ixy="0" ixz="0" iyy="0.0000024045" iyz="0" izz="0.000000009"/>
    </inertial>
    <visual>
      <origin rpy="0 0 0" xyz="0 0 0"/>
      <geometry>
        <!--box size="0.045 0.022 0.0325" /-->
        <!-- <mesh filename="package://robot_envs/hexapod/robot/meshes/LinkTibia.STL"  scale="1 1 1"/> -->
        <mesh filename="package://hexapod/meshes/NewTibia.STL" scale="0.001 0.001 0.001"/>
      </geometry>
      <material name="Grey">
        <color rgba="0.20 0.20 0.20 1.0"/>
      </material>
    </visual>
    <collision>
      <origin rpy="0 1.57 0.524" xyz="-0.027 -0.017 0"/>
      <geometry>
        <cylinder length="0.12" radius="0.003"/>
      </geometry>
    </collision>
  </link>
  <!-- <link name="tibia_e_${suffix}">

      <visual><geometry><sphere radius="0.003"/></geometry></visual>
      <collision><geometry><sphere radius="0.005"/></geometry></collision>
      <inertial>
          <origin xyz="0 0 0" rpy="0 0 0"/>
          <mass value="0.001"/>
          <inertia ixx="0.1" ixy="0.0" ixz="0.0" iyy="0.1"  iyz="0.0" izz="0.1"/>
      </inertial>
  </link> -->
  <link name="tibia_e_lr">
    <visual>
      <origin rpy="0 0 0" xyz="0 0 0"/>
      <geometry>
        <sphere radius=".006"/>
      </geometry>
    </visual>
    <collision>
      <geometry>
        <sphere radius=".006"/>
      </geometry>
    </collision>
    <inertial>
      <origin rpy="0 0 0" xyz="0 0 0"/>
      <mass value="0.01"/>
      <inertia ixx="0.00144" ixy="0.0" ixz="0.0" iyy="0.00144" iyz="0.0" izz="0.00144"/>
    </inertial>
  </link>
  <!-- here are an edit including a ball joint -->
  <joint name="j_c1_lr" type="revolute">
    <parent link="connect_lr"/>
    <child link="c1_lr"/>
    <origin rpy="0 3.141592653589793 3.141592653589793" xyz="0 0 0"/>
    <axis xyz="0 0 -1"/>
    <limit effort="5.8" lower="-2.6179939" upper="2.6179939" velocity="10"/>
    <dynamics damping="0.5" friction="0.0"/>
  </joint>
  <joint name="j_thigh_lr" type="revolute">
    <parent link="c1_lr"/>
    <child link="thigh_lr"/>
    <origin rpy="1.5707963267948966 0 1.5707963267948966" xyz="0 0.053 0"/>
    <axis xyz="0 0 1"/>
    <limit effort="5.8" lower="-2.6179939" upper="2.6179939" velocity="10"/>
    <dynamics damping="0.5" friction="0.0"/>
  </joint>
  <joint name="j_tibia_lr" type="revolute">
    <parent link="thigh_lr"/>
    <child link="tibia_lr"/>
    <!-- <origin xyz="0 ${thigh_offset_y} ${thigh_offset_z}" rpy="-1.5707 0 3.14159" /> -->
    <origin rpy="3.141592653589793 0 3.141592653589793" xyz="0.0525 0 0"/>
    <axis xyz="0 0 -1"/>
    <limit effort="5.8" lower="-2.5" upper="2.5" velocity="10"/>
    <dynamics damping="0.5" friction="0.0"/>
  </joint>
  <joint name="j_tibia_e_lr" type="fixed">
    <parent link="tibia_lr"/>
    <child link="tibia_e_lr"/>
    <!-- <origin xyz="0 ${thigh_offset_y} ${thigh_offset_z}" rpy="-1.5707 0 3.14159" /> -->
    <origin rpy="0 0 0" xyz="-0.084 -0.05 0"/>
  </joint>
  <transmission name="t_c1_lr">
    <type>transmission_interface/SimpleTransmission</type>
    <joint name="j_c1_lr">
      <hardwareInterface>hardware_interface/EffortJointInterface</hardwareInterface>
    </joint>
    <actuator name="m_c1_lr">
      <hardwareInterface>hardware_interface/EffortJointInterface</hardwareInterface>
      <mechanicalReduction>1</mechanicalReduction>
    </actuator>
  </transmission>
  <transmission name="t_thigh_lr">
    <type>transmission_interface/SimpleTransmission</type>
    <joint name="j_thigh_lr">
      <hardwareInterface>hardware_interface/EffortJointInterface</hardwareInterface>
    </joint>
    <actuator name="m_thigh_lr">
      <hardwareInterface>hardware_interface/EffortJointInterface</hardwareInterface>
      <mechanicalReduction>1</mechanicalReduction>
    </actuator>
  </transmission>
  <transmission name="t_tibia_lr">
    <type>transmission_interface/SimpleTransmission</type>
    <joint name="j_tibia_lr">
      <hardwareInterface>hardware_interface/EffortJointInterface</hardwareInterface>
    </joint>
    <actuator name="m_tibia_lr">
      <hardwareInterface>hardware_interface/EffortJointInterface</hardwareInterface>
      <mechanicalReduction>1</mechanicalReduction>
    </actuator>
  </transmission>
  <gazebo reference="MP_BODY">
    <mu1>0.61</mu1>
    <mu2>0.61</mu2>
  </gazebo>
  <gazebo reference="c1_lr">
    <material>Gazebo/Grey</material>
    <mu1>0.61</mu1>
    <mu2>0.61</mu2>
  </gazebo>
  <gazebo reference="connect_lr">
    <mu1>0.61</mu1>
    <mu2>0.61</mu2>
  </gazebo>
  <gazebo reference="thigh_lr">
    <material>Gazebo/Grey</material>
    <mu1>0.61</mu1>
    <mu2>0.61</mu2>
  </gazebo>
  <gazebo reference="tibia_lr">
    <material>Gazebo/Grey</material>
    <mu1>0.61</mu1>
    <mu2>0.61</mu2>
  </gazebo>
  <gazebo reference="tibia_e_lr">
    <material>Gazebo/Grey</material>
    <mu1>10</mu1>
    <mu2>10</mu2>
    <kp>1000000.0</kp>
    <kd>10.0</kd>
  </gazebo>
  <!-- <gazebo reference="theta_link_${suffix}">    
    <material>Gazebo/Grey</material>
   <mu1>0.61</mu1>
    <mu2>0.61</mu2>

  </gazebo> -->
  <!-- <gazebo reference="foot_link_${suffix}">    
    <material>Gazebo/Grey</material>
    <mu1>100</mu1>
    <mu2>100</mu2>

    <kp>1000000.0</kp>
    <kd>10.0</kd>

  </gazebo> -->
  <!-- <gazebo reference="footc_${suffix}">    
    <material>Gazebo/White</material>
  </gazebo> -->
  <gazebo>
    <plugin filename="libgazebo_ros_control.so" name="gazebo_ros_control">
      <robotNamespace>/hexapod</robotNamespace>
    </plugin>
    <plugin filename="libgazebo_ros_p3d.so" name="p3d_base_controller">
      <alwaysOn>true</alwaysOn>
      <updateRate>50.0</updateRate>
      <bodyName>base_link</bodyName>
      <topicName>ground_truth/state</topicName>
      <gaussianNoise>0.0</gaussianNoise>
      <frameName>world</frameName>
      <xyzOffsets>0 0 0</xyzOffsets>
      <rpyOffsets>0 0 0</rpyOffsets>
    </plugin>
  </gazebo>
</robot>
